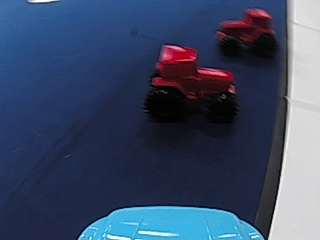tractor: (145, 39, 242, 124), (214, 7, 278, 59)
